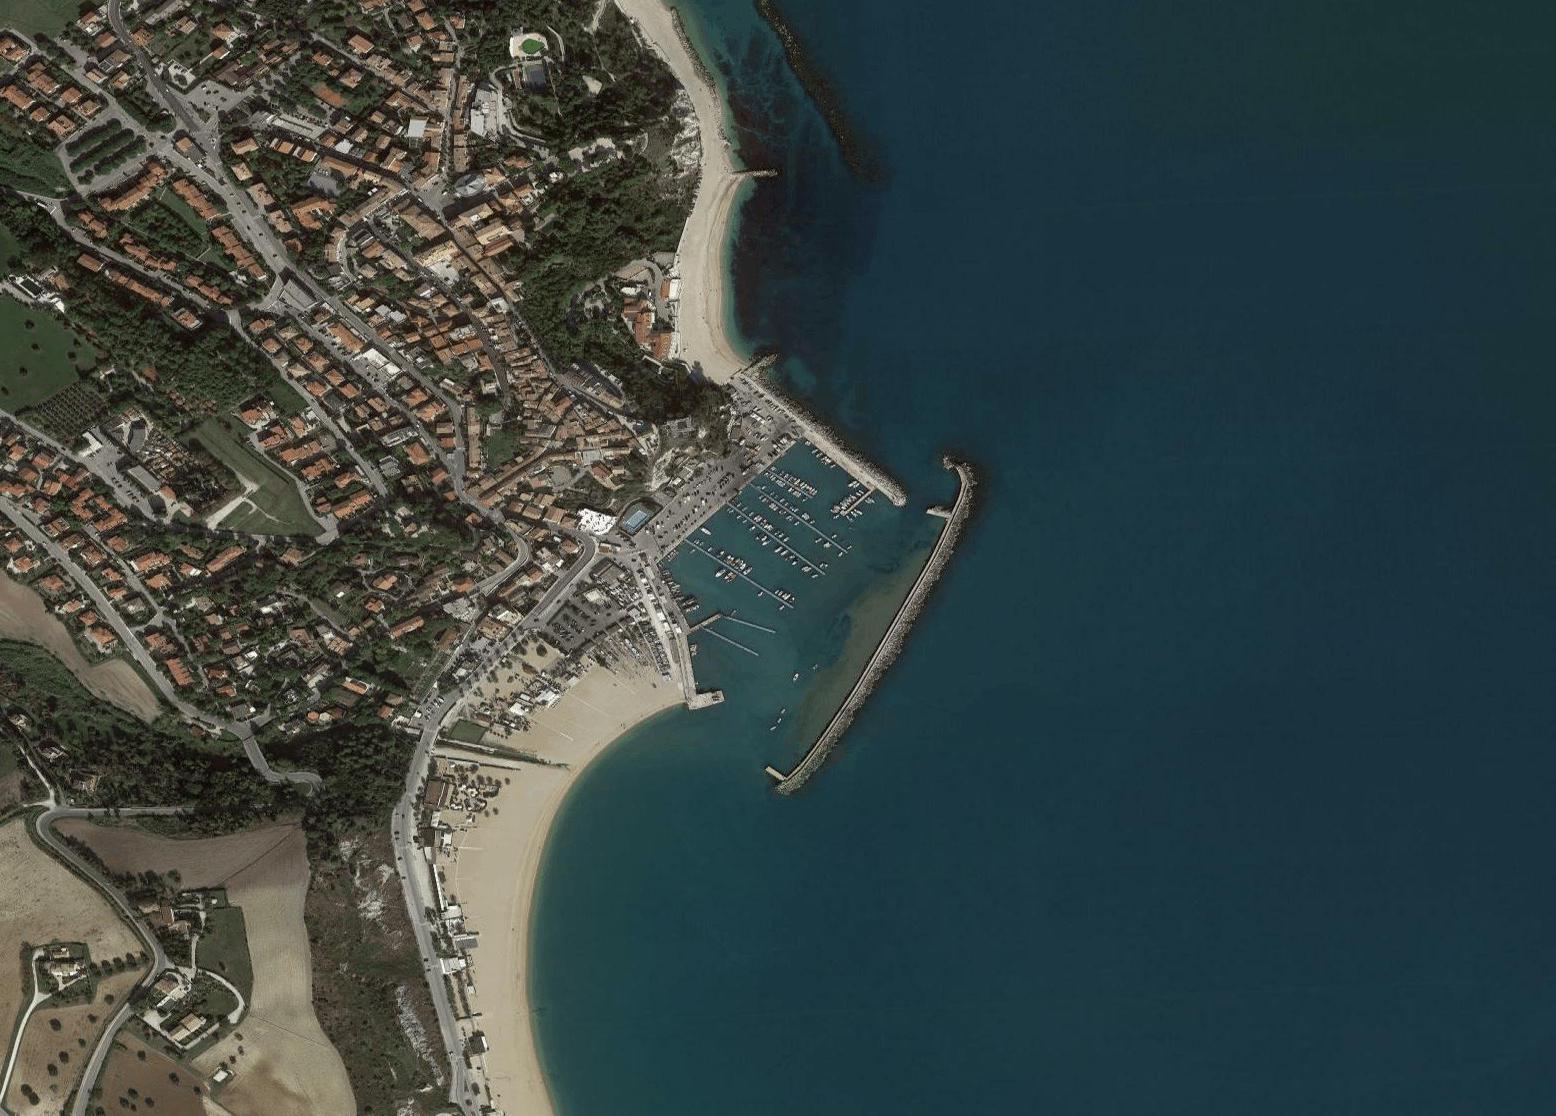harbor: (594, 335, 979, 802)
